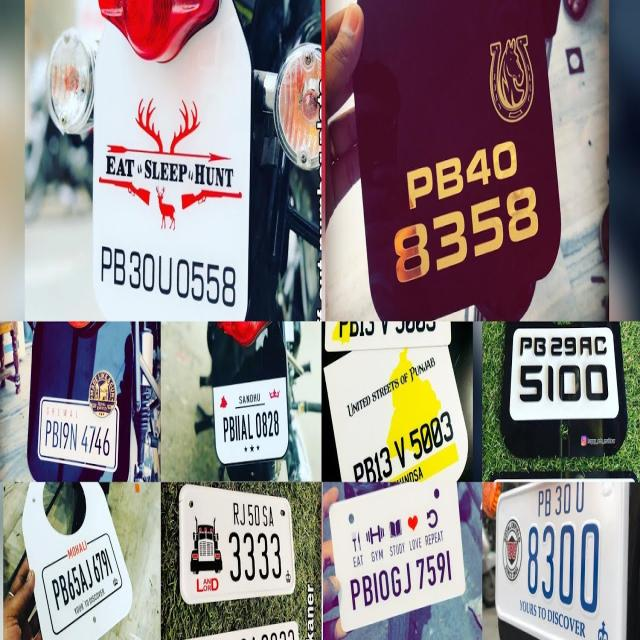plate: (356, 134, 565, 321), (494, 478, 628, 640), (327, 478, 466, 631), (502, 324, 628, 456), (178, 483, 298, 602), (92, 236, 250, 321), (40, 530, 126, 635), (38, 396, 122, 476), (214, 374, 290, 462)
